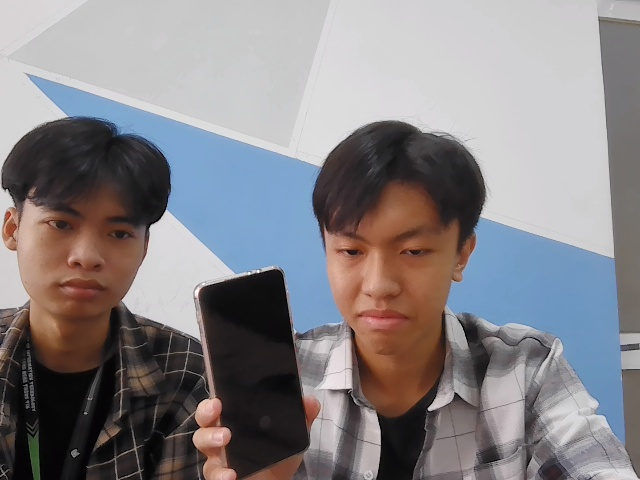human: (1, 110, 170, 326), (316, 125, 482, 344)
phone: (186, 262, 302, 469)
